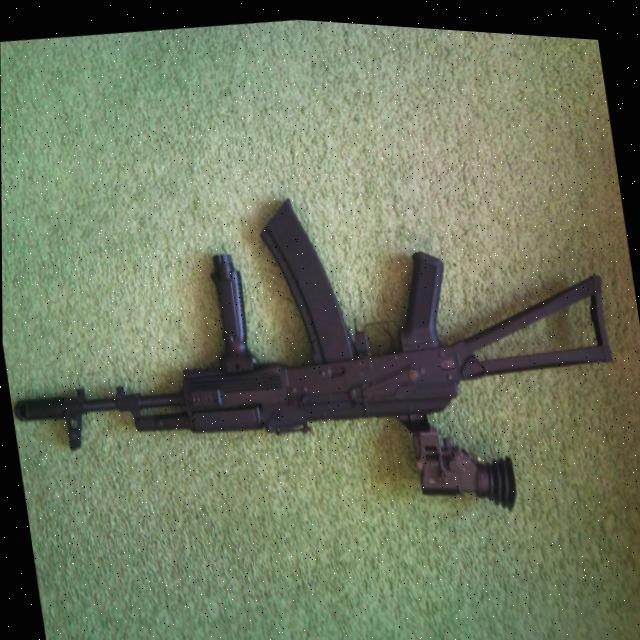firearm: (1, 138, 634, 577)
